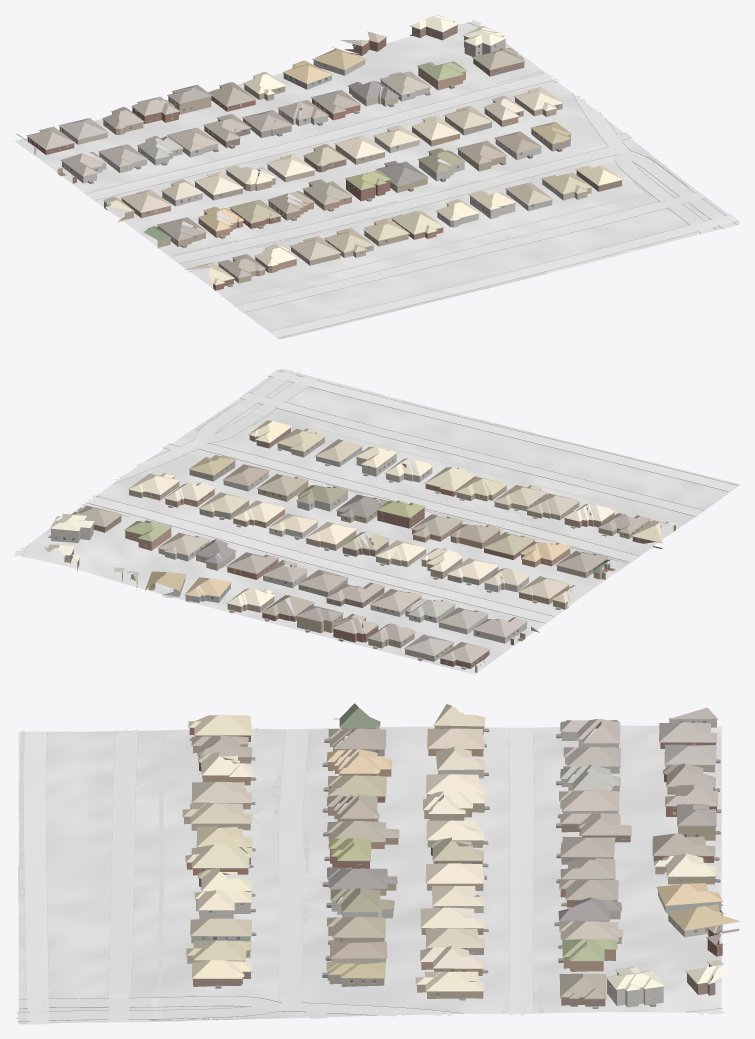
3 views of the same model, one above another, from view 1: azimuth 30°, elevation 25°; view 2: azimuth 150°, elevation 25°; view 3: azimuth 270°, elevation 25° (orthographic). The views are drawn at different scales.
Parts seen in each view (by area): view 1: ground, roof, wall, asphalt, concrete, curb, detail, wall_stone, walk, wall_stucco, mark_w, glass; view 2: ground, roof, wall, asphalt, concrete, curb, detail, wall_stone, walk, wall_stucco, mark_w, glass; view 3: ground, roof, asphalt, concrete, wall, detail, curb, walk, wall_stone, wall_stucco, mark_w, mark_y.
Part boxes in pixels (left/top/right/bottom): ground: left=14, top=22, right=740, bottom=339; roof: left=16, top=14, right=622, bottom=284; wall: left=27, top=25, right=621, bottom=290; asphalt: left=233, top=20, right=738, bottom=337; concrete: left=86, top=74, right=631, bottom=263; curb: left=86, top=22, right=738, bottom=338; detail: left=21, top=21, right=622, bottom=286; wall_stone: left=34, top=31, right=541, bottom=227; walk: left=170, top=70, right=689, bottom=338; wall_stucco: left=138, top=66, right=552, bottom=218; mark_w: left=241, top=22, right=735, bottom=336; glass: left=30, top=28, right=558, bottom=275; ground: left=18, top=369, right=740, bottom=674; roof: left=44, top=420, right=676, bottom=664; wall: left=70, top=428, right=675, bottom=668; asphalt: left=14, top=370, right=736, bottom=556; concrete: left=87, top=443, right=638, bottom=622; curb: left=22, top=369, right=737, bottom=623; detail: left=48, top=426, right=662, bottom=669; wall_stone: left=51, top=468, right=528, bottom=672; walk: left=82, top=403, right=739, bottom=562; wall_stucco: left=185, top=447, right=454, bottom=622; mark_w: left=21, top=370, right=736, bottom=556; glass: left=55, top=443, right=642, bottom=664; ground: left=18, top=725, right=721, bottom=1024; roof: left=182, top=703, right=740, bottom=998; asphalt: left=14, top=729, right=726, bottom=1024; concrete: left=278, top=728, right=533, bottom=1018; wall: left=184, top=720, right=722, bottom=1006; detail: left=183, top=718, right=727, bottom=1008; curb: left=17, top=728, right=722, bottom=1024; walk: left=18, top=728, right=544, bottom=1020; wall_stone: left=199, top=718, right=739, bottom=1007; wall_stucco: left=191, top=779, right=721, bottom=943; mark_w: left=18, top=729, right=721, bottom=1023; mark_y: left=19, top=731, right=424, bottom=1023.
Size of the model in its own units: 258 by 15.94 by 259.
